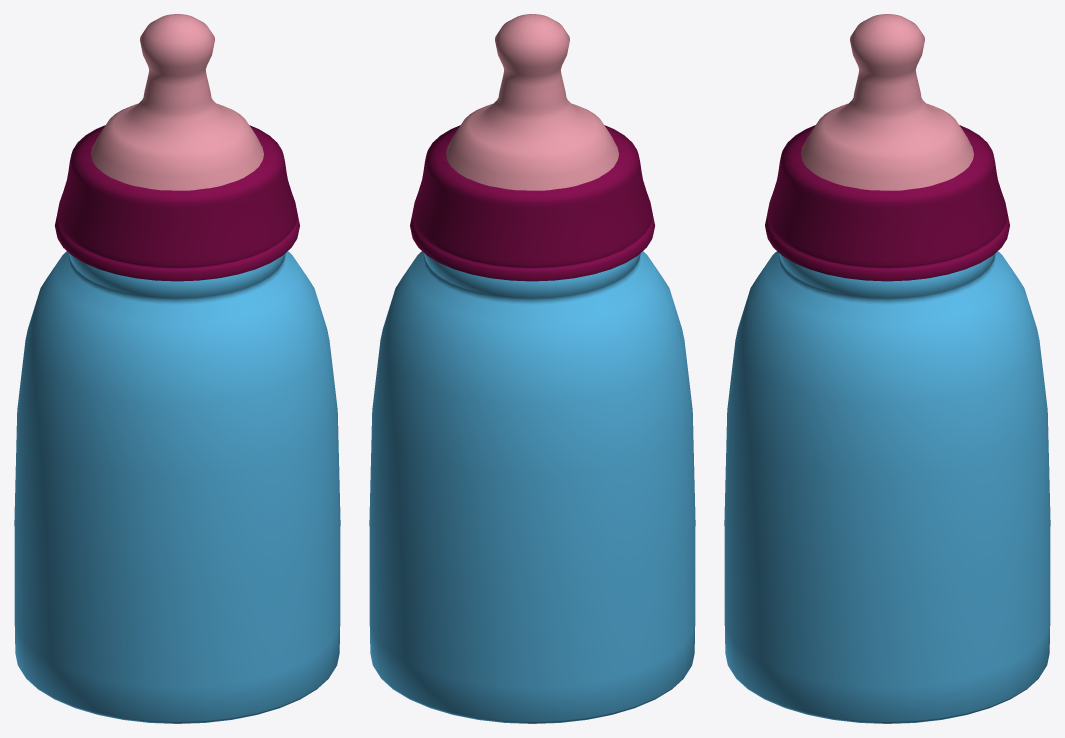
File: BABY BOTLE .fbx
3 views of the same model, side by side, from view 1: azimuth 30°, elevation 25°; view 2: azimuth 150°, elevation 25°; view 3: azimuth 270°, elevation 25° (orthographic).
Parts seen in each view (by area): view 1: 2d8f9c436a9149d6b8d99f3314a50e66.obj; view 2: 2d8f9c436a9149d6b8d99f3314a50e66.obj; view 3: 2d8f9c436a9149d6b8d99f3314a50e66.obj.
Boxes of the visible parts, left/top/right/bottom form: 2d8f9c436a9149d6b8d99f3314a50e66.obj: left=14, top=14, right=340, bottom=723; 2d8f9c436a9149d6b8d99f3314a50e66.obj: left=369, top=14, right=695, bottom=723; 2d8f9c436a9149d6b8d99f3314a50e66.obj: left=724, top=14, right=1050, bottom=723.
Bounding box in the file's own units: 265 × 573 × 265.
